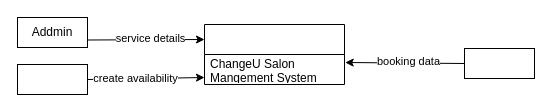
The diagram is 552 pixels wide and 112 high, and some of its shapes have lost their labels. The centre of each missing label's shape, as x and y in pixels:
Customer: point (499, 63)
Staff: point (52, 79)
